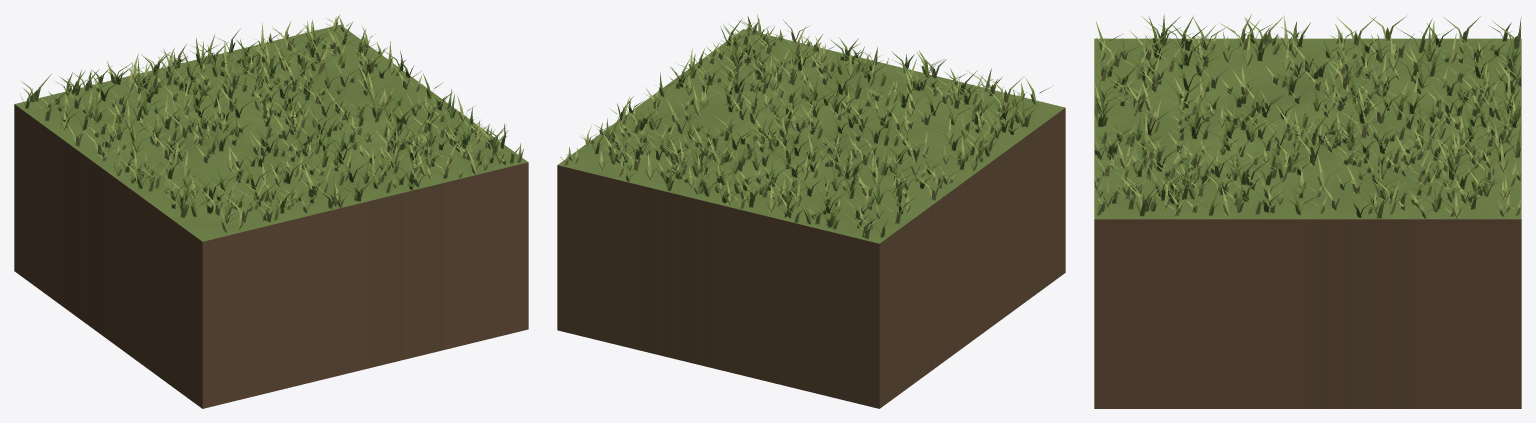
3 views of the same model, side by side, from view 1: azimuth 30°, elevation 25°; view 2: azimuth 150°, elevation 25°; view 3: azimuth 270°, elevation 25° (orthographic). The views are drawn at different scales.
Parts seen in each view (by area): view 1: T001_Earth, T001_Surface, T001_Vegetation; view 2: T001_Earth, T001_Surface, T001_Vegetation; view 3: T001_Earth, T001_Surface, T001_Vegetation.
Part boxes in pixels (box(x1,y1,x2,y2)): T001_Earth: box(14, 104, 528, 408); T001_Surface: box(15, 24, 527, 241); T001_Vegetation: box(21, 15, 523, 232); T001_Earth: box(557, 108, 1065, 408); T001_Surface: box(557, 29, 1064, 243); T001_Vegetation: box(560, 14, 1053, 238); T001_Earth: box(1094, 219, 1521, 408); T001_Surface: box(1094, 38, 1521, 219); T001_Vegetation: box(1094, 14, 1521, 218).
Bounding box in the file's own units: 2 × 1.12 × 2.
Materials: 4 (4 with a texture image).
